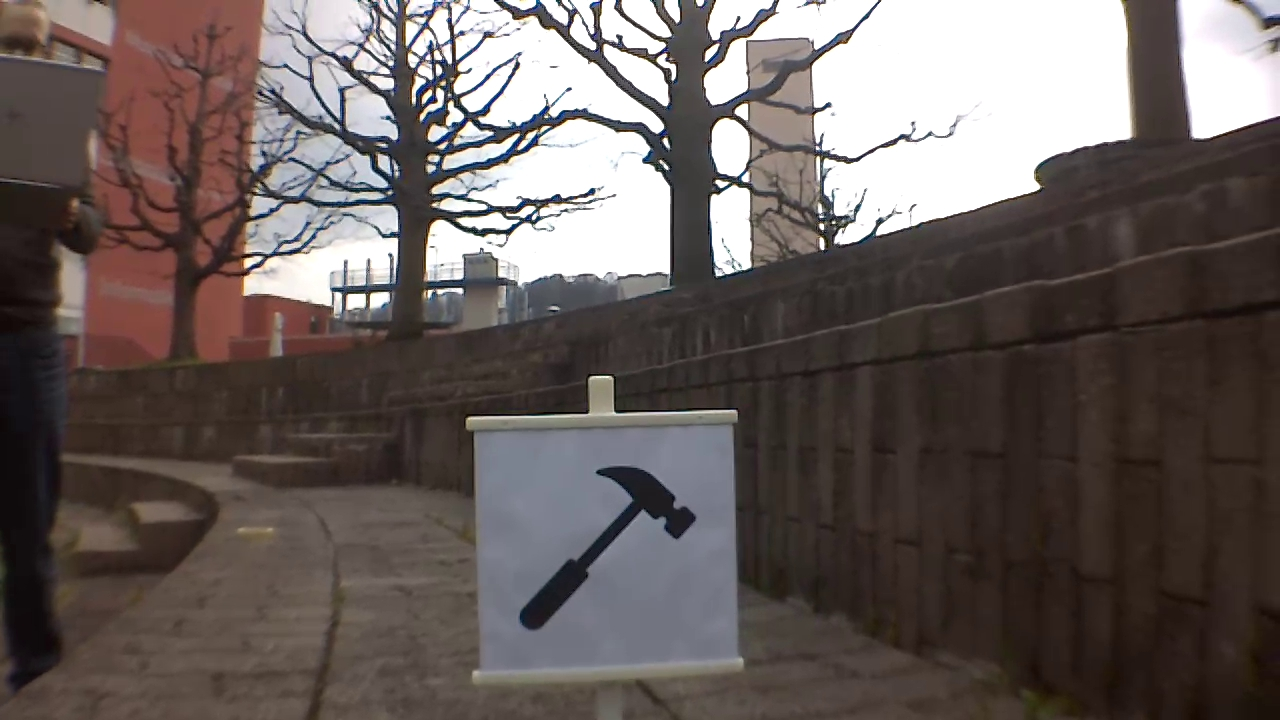hammer: (519, 459, 702, 633)
